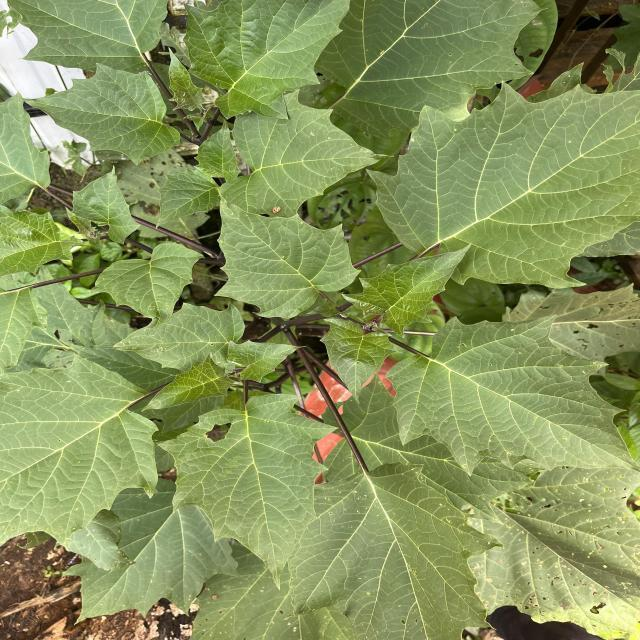Datura metal linn: (363, 78, 640, 291), (382, 312, 640, 478), (155, 391, 341, 593), (218, 87, 396, 219), (212, 186, 363, 321), (16, 62, 182, 166), (340, 240, 472, 340), (88, 241, 207, 330), (103, 300, 246, 373), (318, 318, 401, 406), (139, 351, 241, 414), (69, 163, 142, 244), (154, 166, 220, 230), (225, 338, 308, 384), (192, 118, 242, 182)
